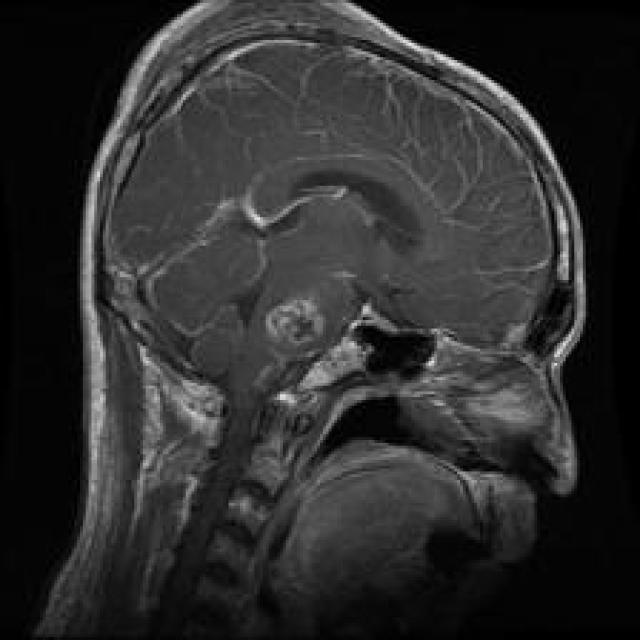glioma_tumor: (255, 279, 344, 368)
